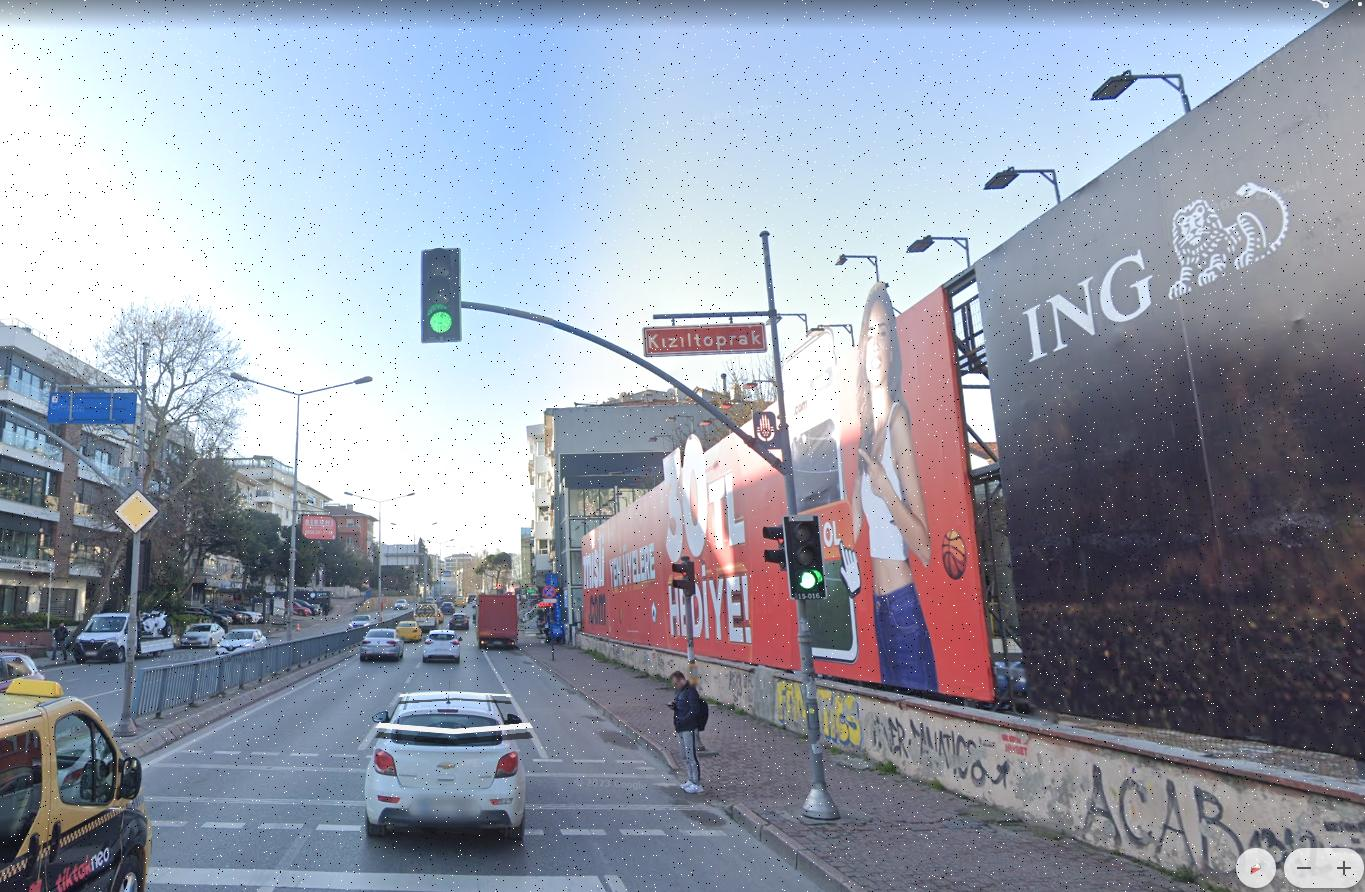greenlight: (422, 247, 461, 347), (784, 515, 821, 598)
